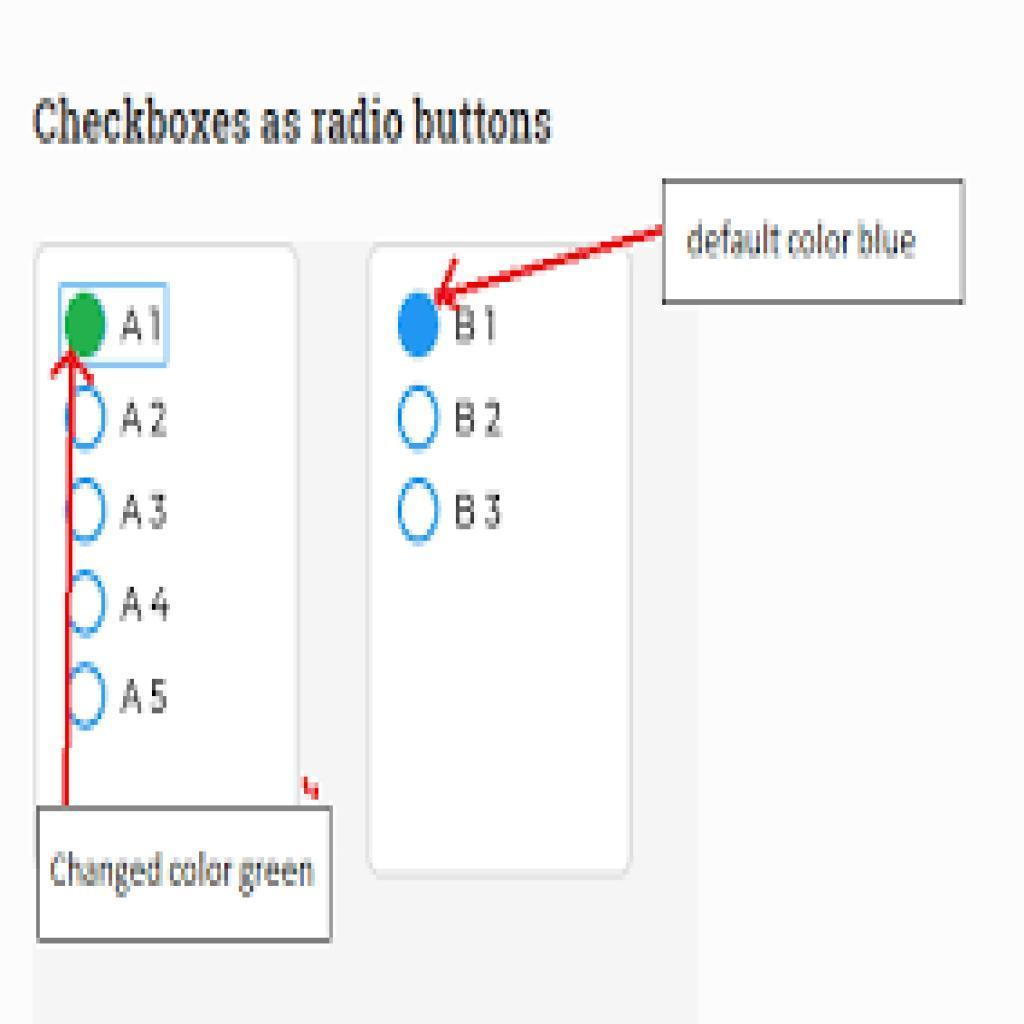button: (37, 804, 335, 944), (661, 177, 967, 307)
label: (24, 87, 559, 154), (120, 575, 175, 633), (450, 300, 504, 353), (117, 487, 175, 536), (452, 394, 506, 446), (121, 390, 168, 445), (454, 487, 506, 536), (122, 672, 171, 721), (122, 302, 161, 347)
radio: (62, 477, 110, 549), (398, 476, 443, 548), (61, 571, 110, 636), (64, 664, 109, 734), (397, 290, 441, 361), (65, 385, 107, 455), (65, 292, 108, 360), (398, 385, 442, 451)
